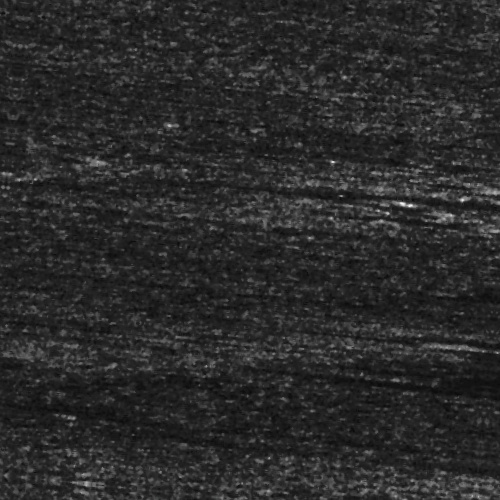object: (431, 316, 500, 327), (490, 360, 500, 369)
shadow: (245, 174, 500, 187), (221, 316, 467, 327), (423, 360, 500, 369), (460, 312, 500, 319), (473, 196, 500, 205)
